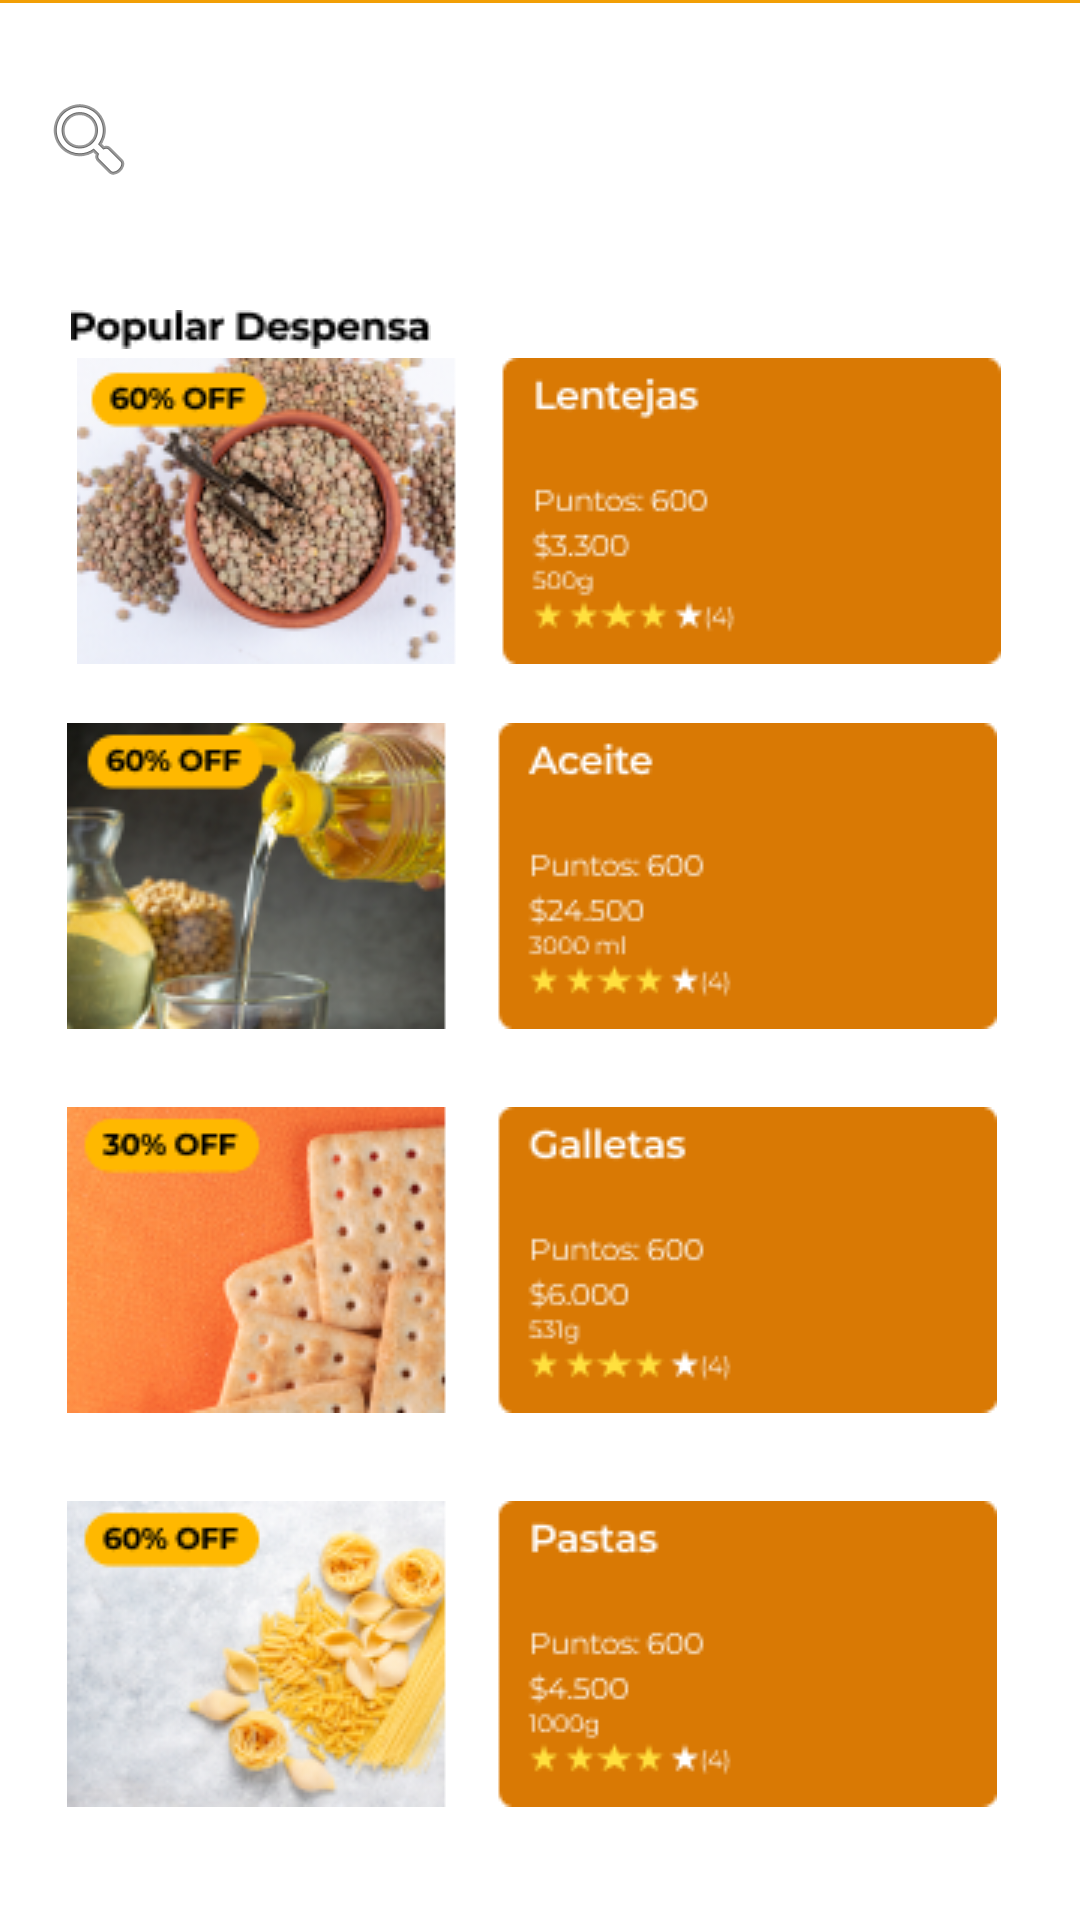

Icons on this 1080 x 1920 Android screen, each with its box as {"left": x1, "top": y1, "right": x2, "bottom": y2}:
search: {"left": 53, "top": 104, "right": 125, "bottom": 175}
